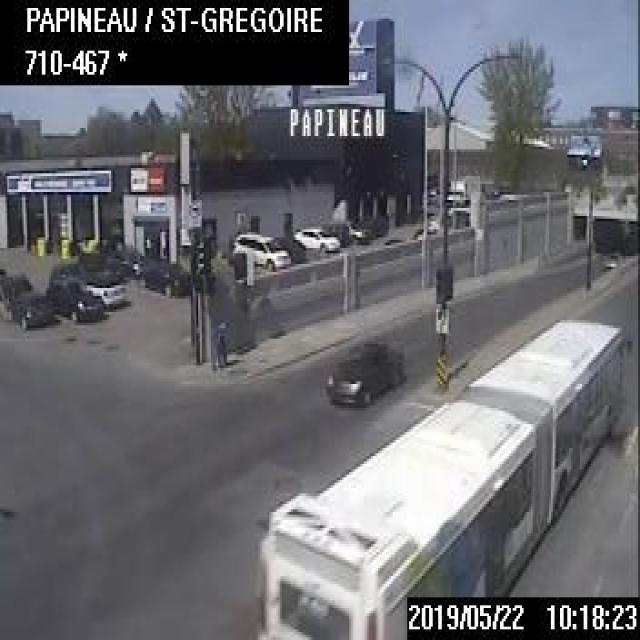bus: (255, 315, 627, 637)
pedestrian: (212, 318, 228, 370)
vehicle: (324, 334, 398, 406), (45, 275, 105, 322), (233, 229, 290, 271), (140, 255, 189, 296), (6, 288, 51, 328), (86, 271, 126, 310), (0, 273, 33, 316), (50, 256, 88, 286), (292, 226, 338, 250), (273, 232, 303, 262), (343, 218, 372, 242), (602, 246, 622, 271)
